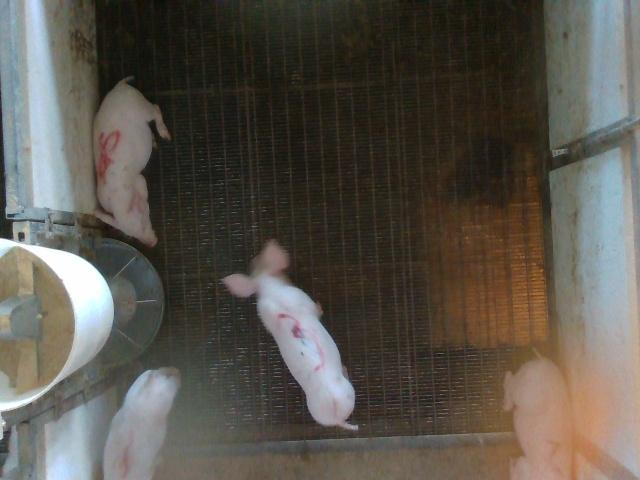pig-1: (104, 368, 181, 479)
pig-2: (504, 352, 571, 478)
pig-3: (222, 240, 358, 429)
pig-5: (92, 76, 170, 247)
